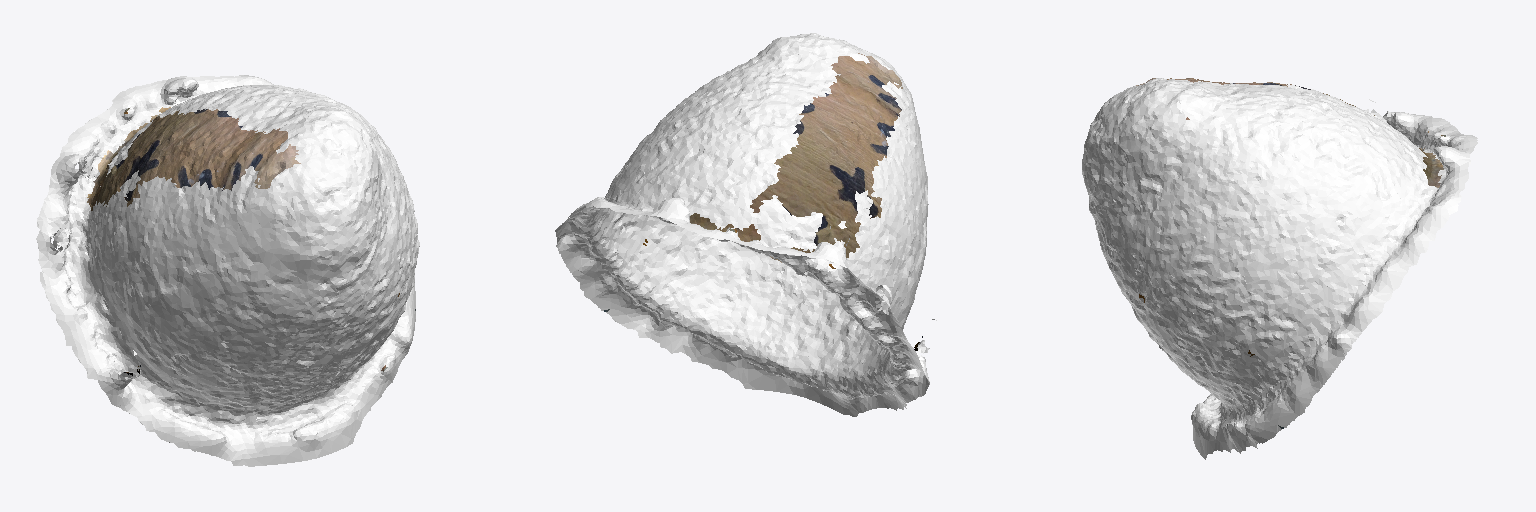
3 views of the same model, side by side, from view 1: azimuth 30°, elevation 25°; view 2: azimuth 150°, elevation 25°; view 3: azimuth 270°, elevation 25° (orthographic).
Visible parts, largest first — view 1: defaultobject.001; view 2: defaultobject.001; view 3: defaultobject.001.
Boxes of the visible parts, x1,y1,x2,y2 form: defaultobject.001: [36, 75, 419, 466]; defaultobject.001: [555, 33, 936, 416]; defaultobject.001: [1082, 78, 1477, 459].
Size of the model in its own units: 6.2 by 5.85 by 6.01.
Materials: 4 (1 with a texture image).